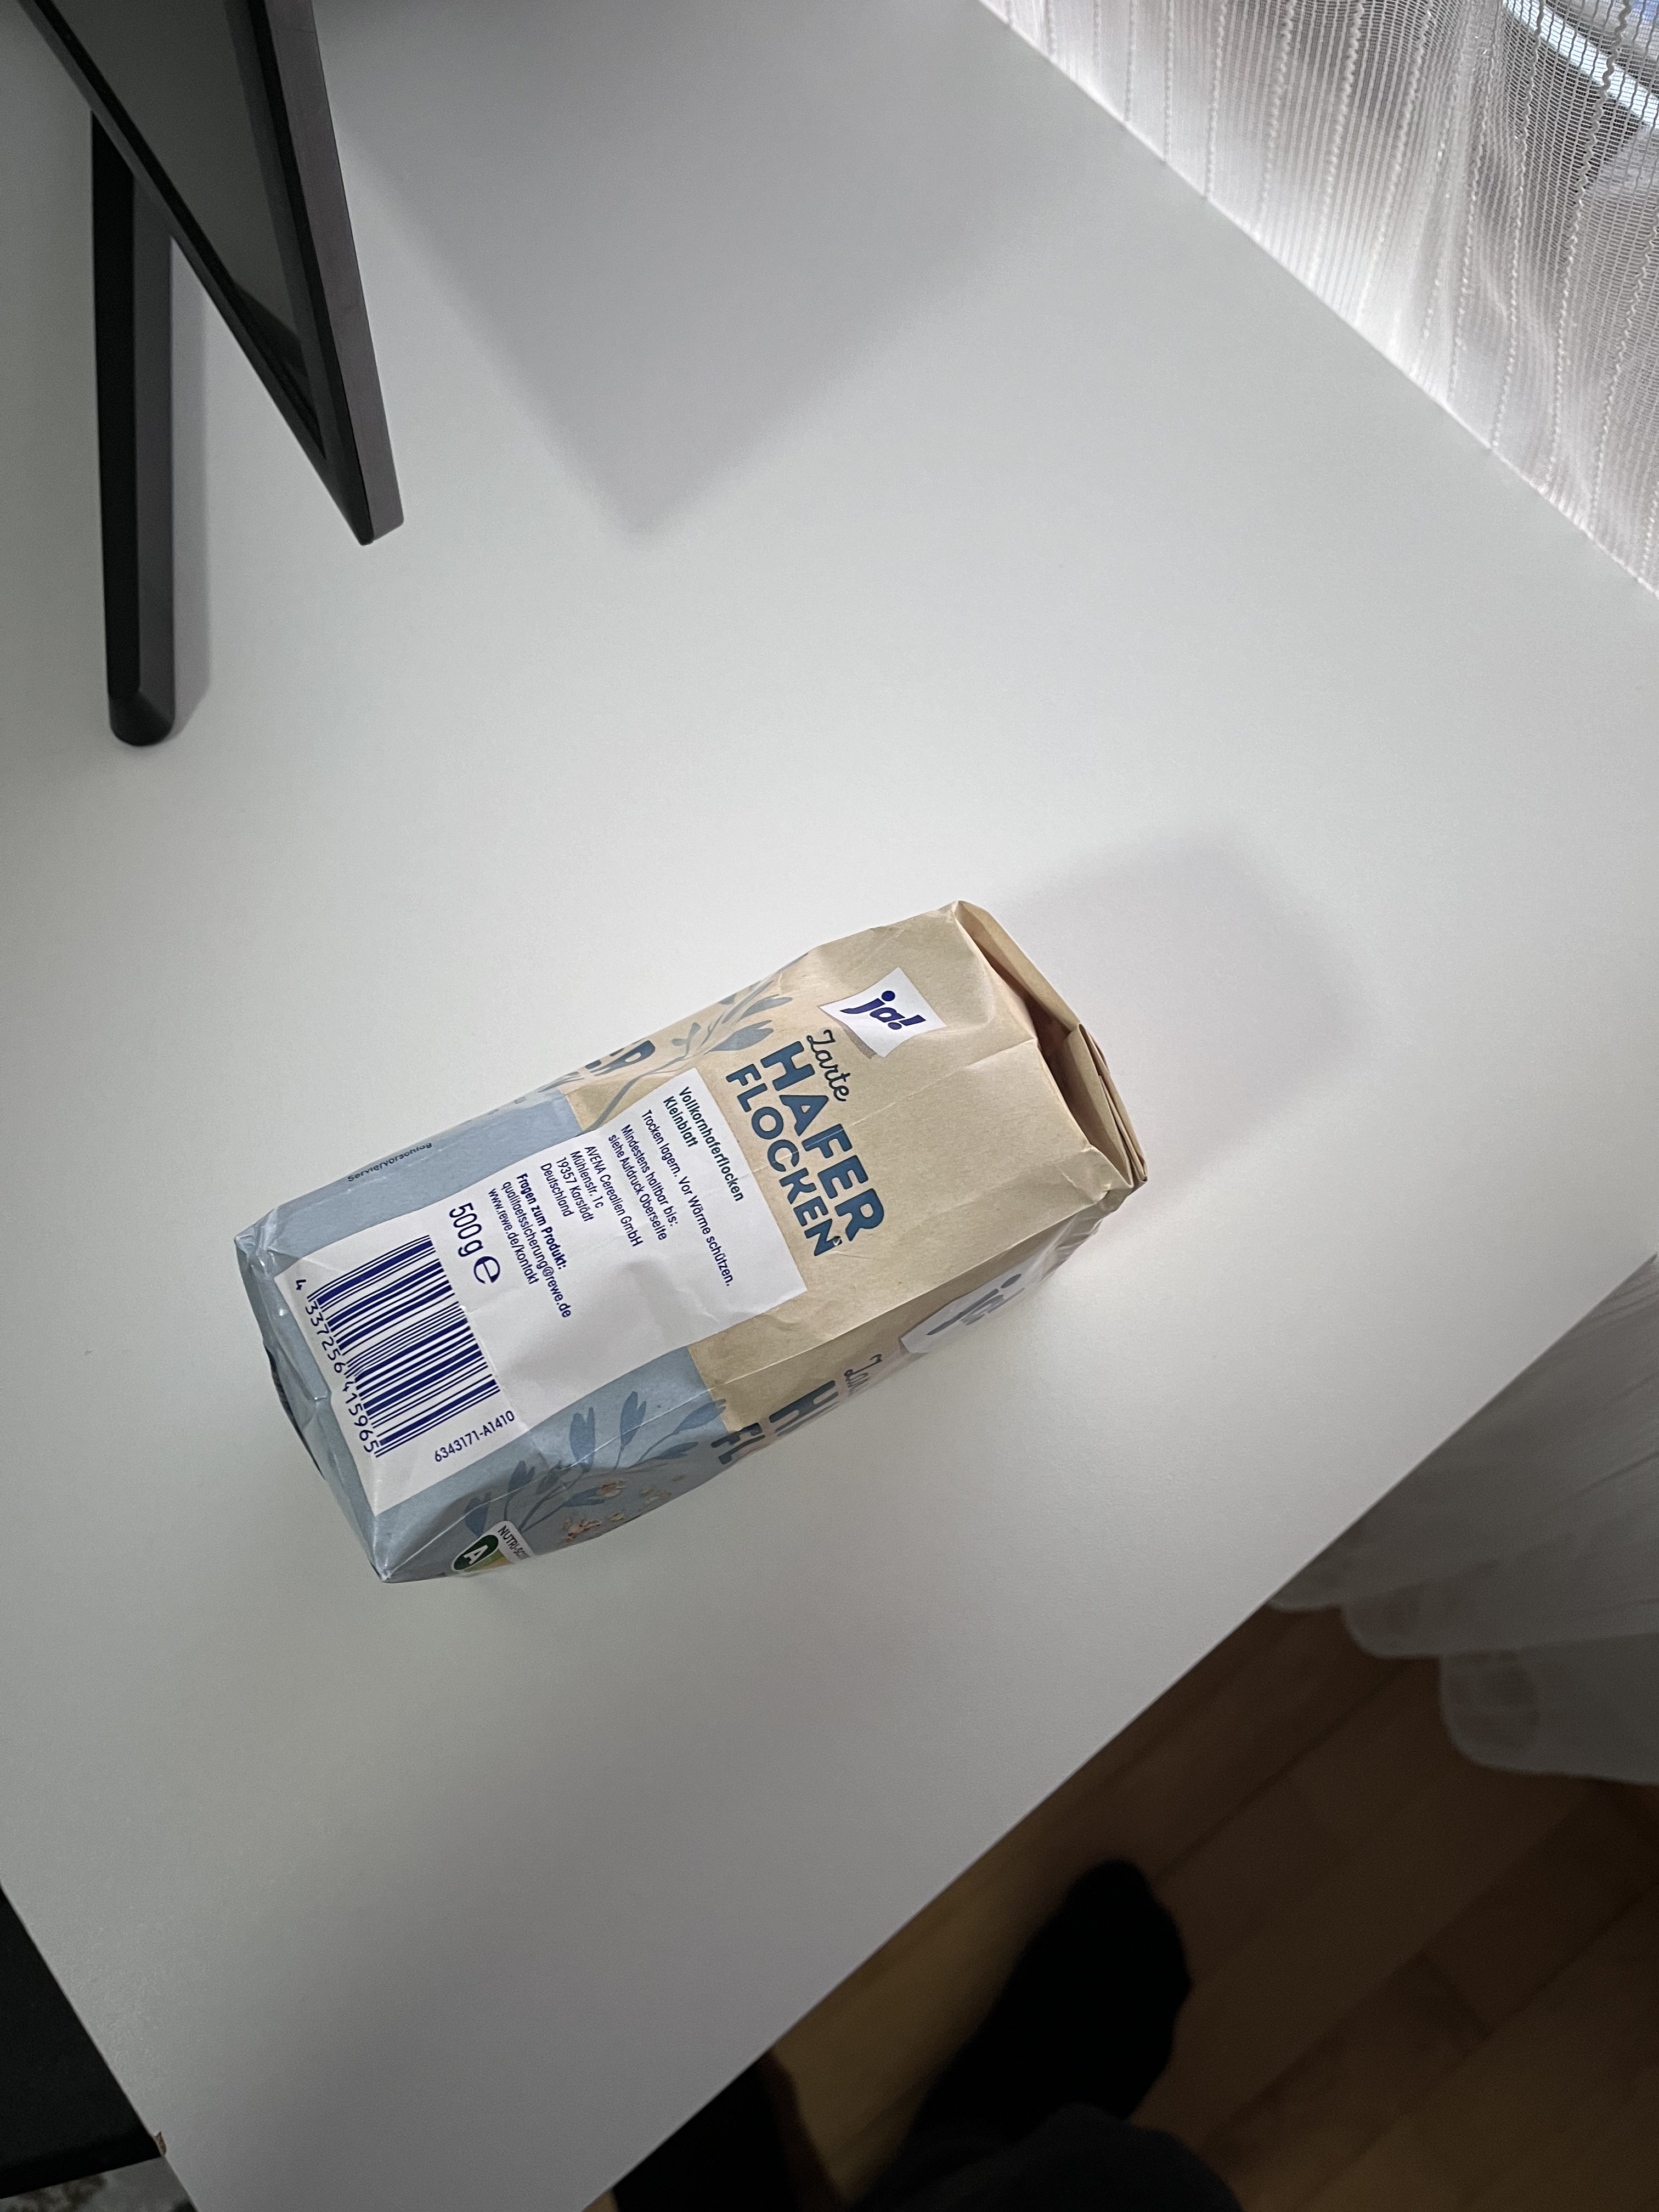haferflocken_ja: (228, 900, 1148, 1583)
